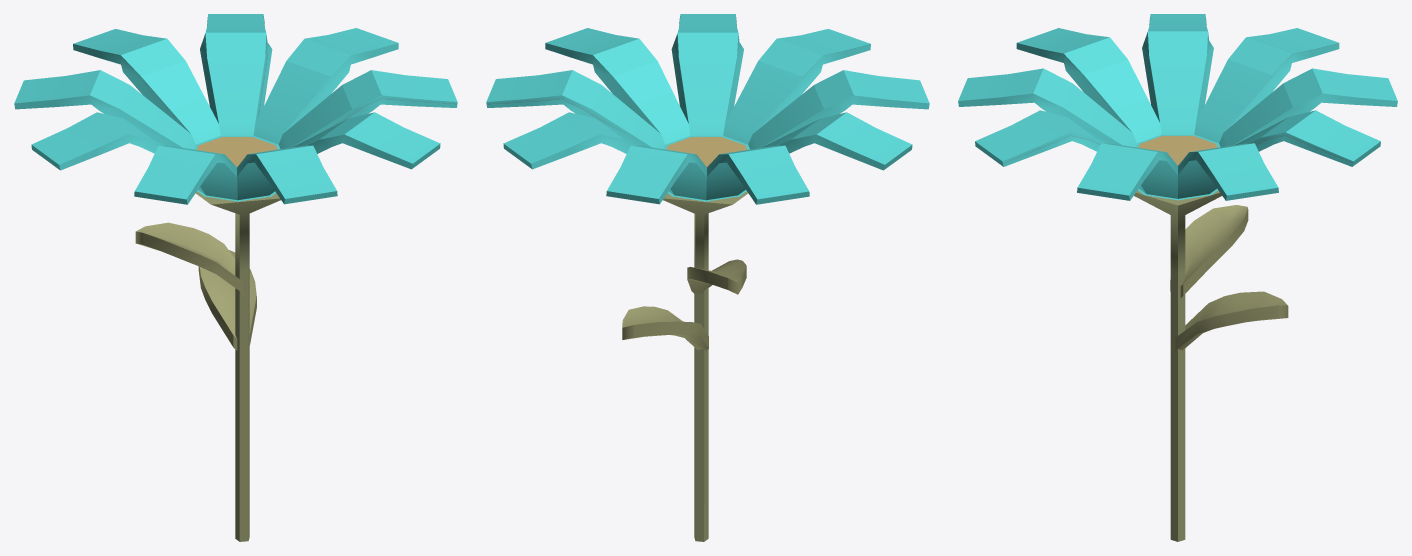
File: flower05.fbx
3 views of the same model, side by side, from view 1: azimuth 30°, elevation 25°; view 2: azimuth 150°, elevation 25°; view 3: azimuth 270°, elevation 25° (orthographic).
Visible parts, largest first — view 1: node_id9, node_id7, node_id6, node_id5, node_id8; view 2: node_id9, node_id7, node_id5, node_id6, node_id8; view 3: node_id9, node_id7, node_id6, node_id5, node_id8.
Boxes of the visible parts, box(x1,y1,x2,y2) form: node_id9: box(14, 14, 457, 204); node_id7: box(195, 190, 280, 541); node_id6: box(135, 222, 244, 294); node_id5: box(198, 250, 256, 350); node_id8: box(194, 135, 280, 166); node_id9: box(486, 14, 929, 204); node_id7: box(663, 190, 748, 541); node_id5: box(622, 306, 708, 350); node_id6: box(687, 259, 746, 294); node_id8: box(663, 135, 749, 166); node_id9: box(958, 14, 1397, 200); node_id7: box(1134, 188, 1221, 541); node_id6: box(1170, 205, 1248, 297); node_id5: box(1175, 291, 1288, 350); node_id8: box(1135, 134, 1220, 165).
Size of the model in its own units: 0.4527 by 0.512 by 0.4597.
Materials: 5 (3 with a texture image).
